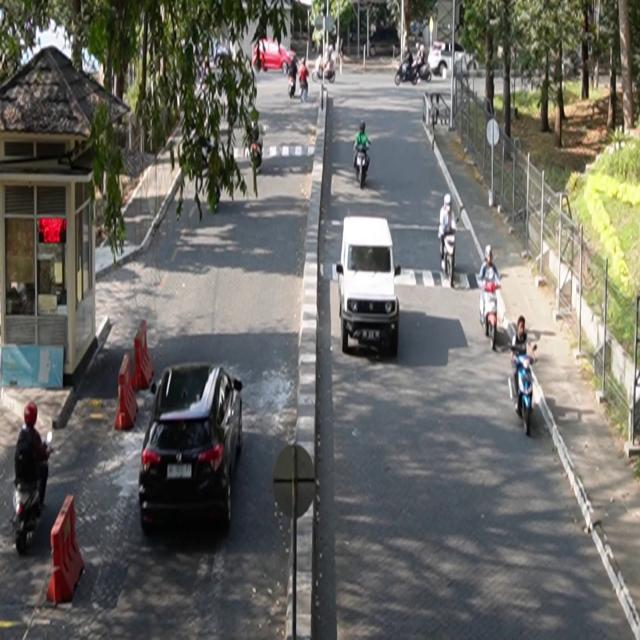car: (139, 362, 244, 535)
truck: (334, 216, 402, 357)
